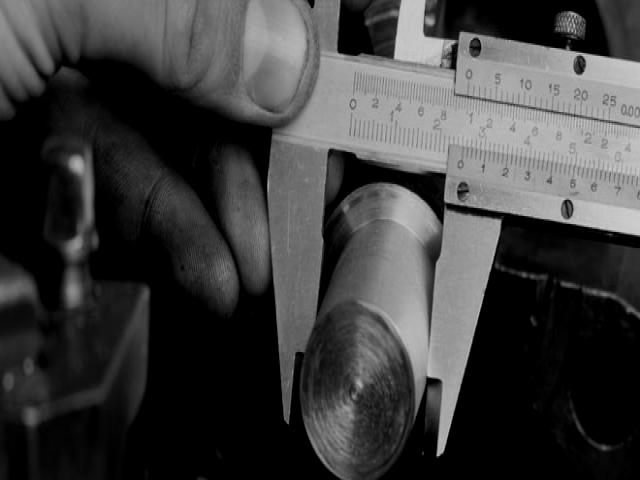Calipers: (268, 0, 640, 457)
Hand: (0, 0, 319, 326)
